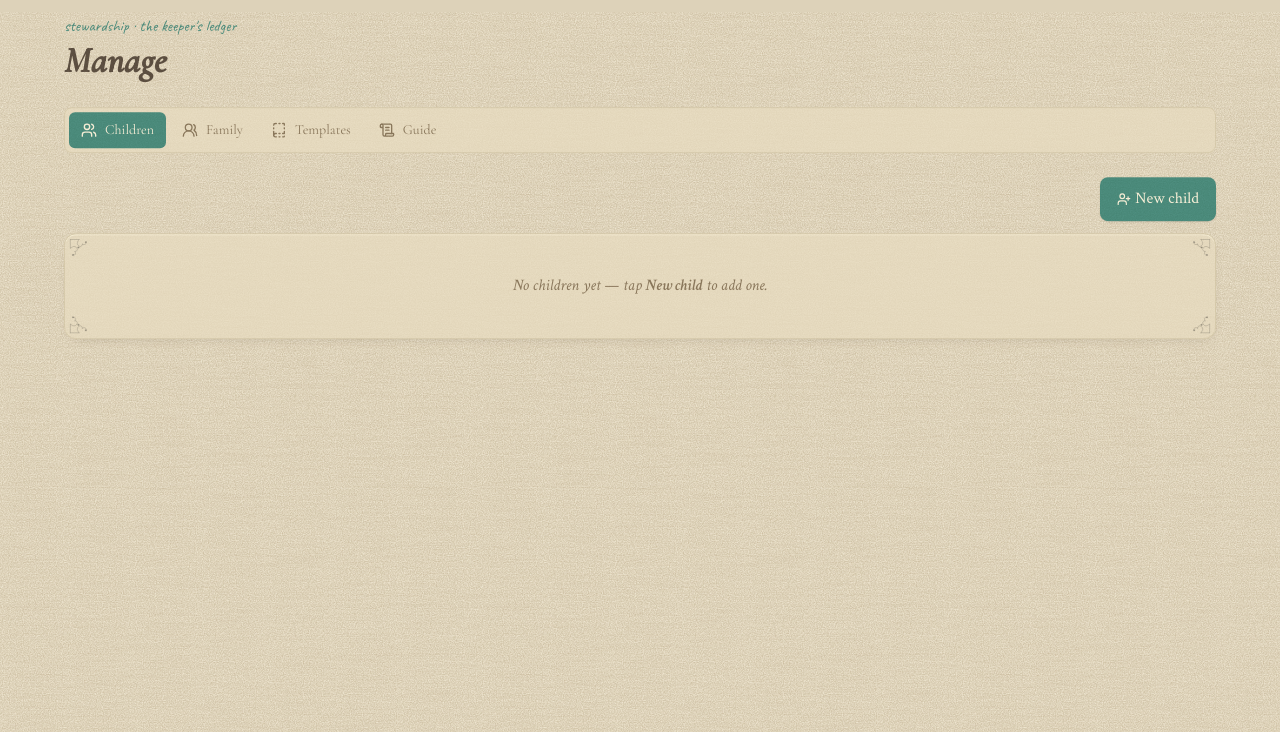
Test: Manage — Family tab › self-row hides the Edit button so own-profile flows route through /settings
The image size is (1280, 732).
Click the tab "Family".
click(212, 130)  # box [170,112,255,148]
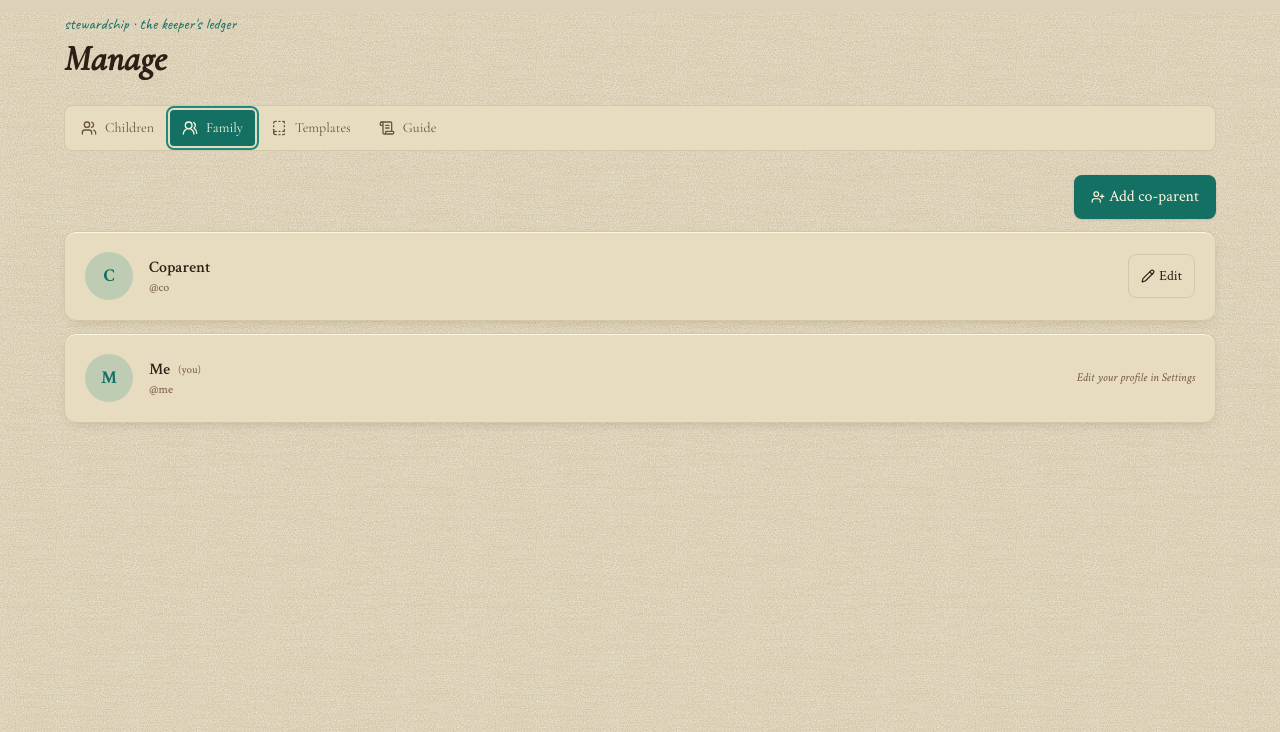
Now the text "Coparent" is shown, box [149,257,210,278]
Now the number of buttons "Edit" is 1, box [1128,254,1195,298]
Now the text "Edit your profile in Settings" is shown, box [1076,370,1195,386]
